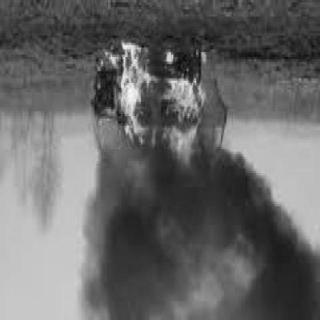Fire: (96, 45, 208, 171)
Smoke: (80, 153, 302, 317)
